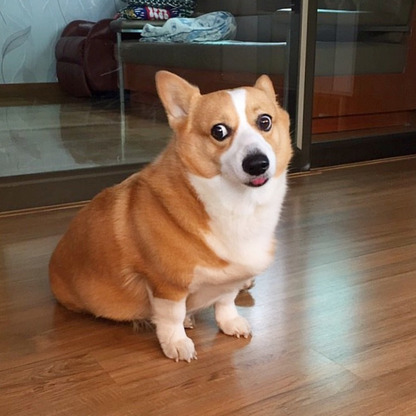Corgi: (44, 50, 309, 369)
